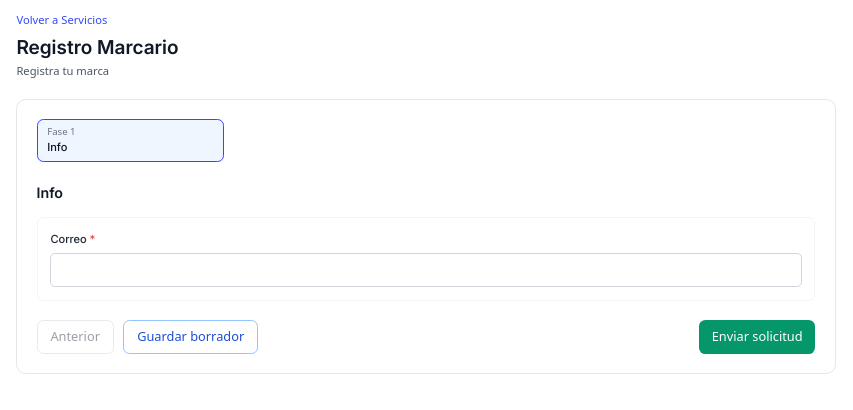
Test: ServiceDetail.vue › required email field shows validation error for invalid format
This screenshot has width=853, height=410.
Type "not-valid" into the field.
click(426, 270); type("not-valid")  # box top-left (50, 253), bottom-right (802, 287)
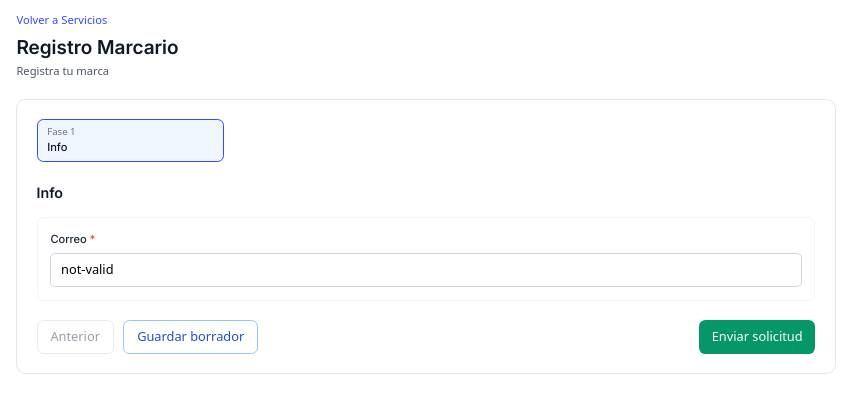
Click the button "Enviar solicitud".
click(757, 337)  # box top-left (699, 320), bottom-right (815, 354)
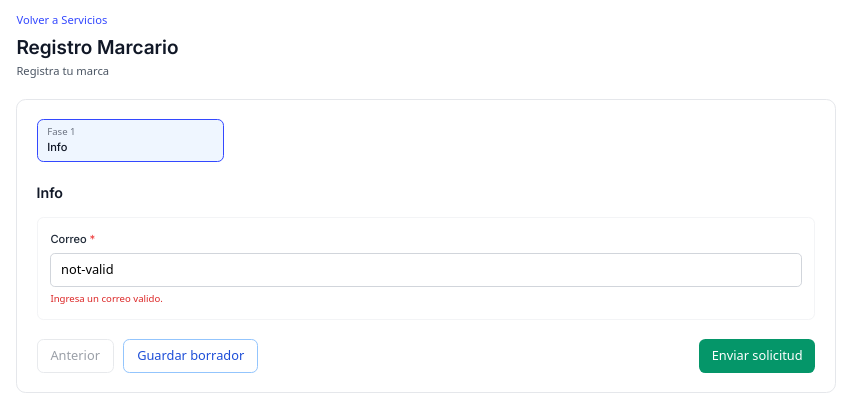
Result: the text "correo valido" is shown at top-left (50, 292), bottom-right (163, 305)
